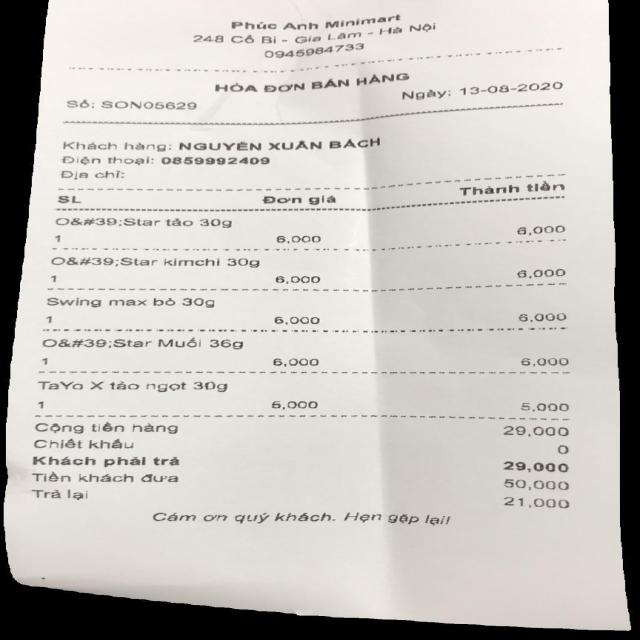Date: (460, 79, 571, 97)
Store_Name: (218, 14, 419, 31)
amount_number: (496, 461, 576, 473)
label_total: (27, 454, 189, 467)
